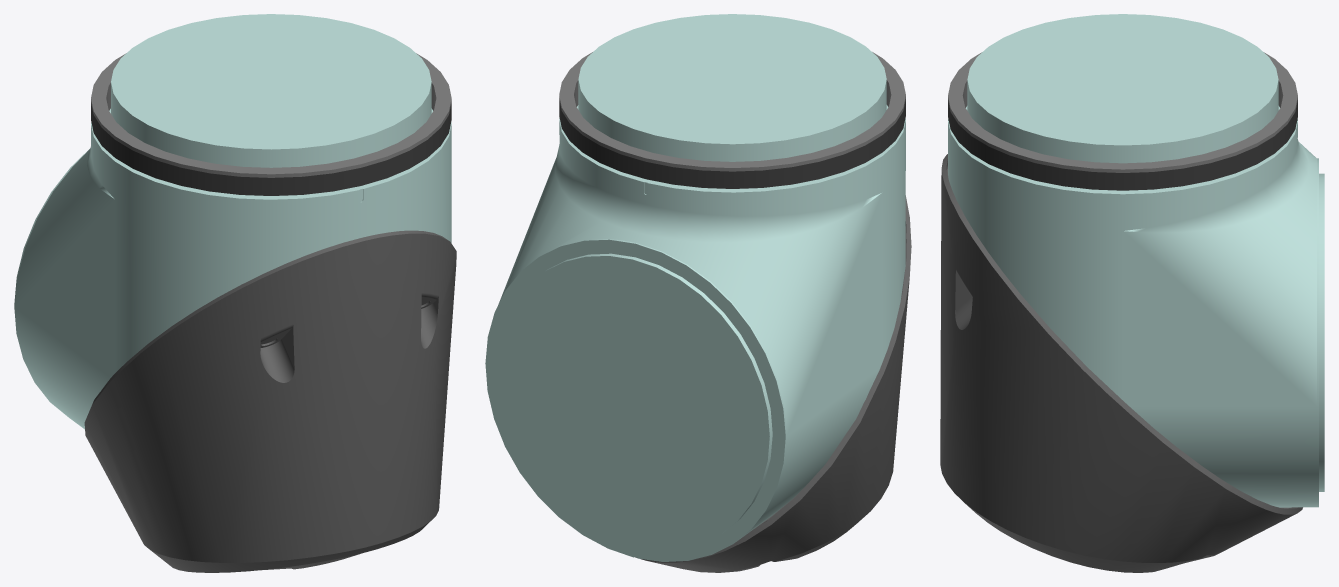
The picture shows the model from 3 angles, left to right: view 1: azimuth 30°, elevation 25°; view 2: azimuth 150°, elevation 25°; view 3: azimuth 270°, elevation 25°; orthographic projection. The views are drawn at different scales.
Visible parts, largest first — view 1: RB10-1300E_LINK4:1; view 2: RB10-1300E_LINK4:1; view 3: RB10-1300E_LINK4:1.
Boxes of the visible parts, bbox=[...] form: RB10-1300E_LINK4:1: bbox=[14, 14, 456, 572]; RB10-1300E_LINK4:1: bbox=[485, 14, 911, 572]; RB10-1300E_LINK4:1: bbox=[940, 14, 1324, 572].
Size of the model in its own units: 0.0922 by 0.0988 by 0.1317.
